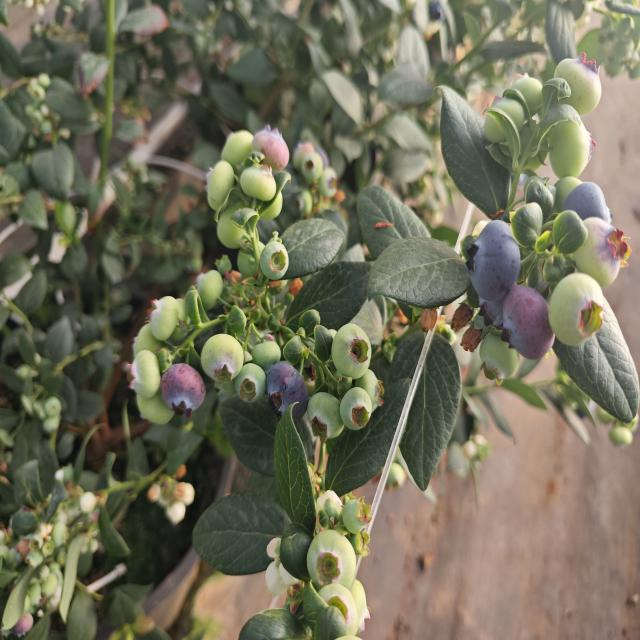ripe: (474, 220, 526, 305), (561, 179, 621, 235), (503, 288, 550, 358), (263, 357, 312, 422), (157, 362, 206, 418)
